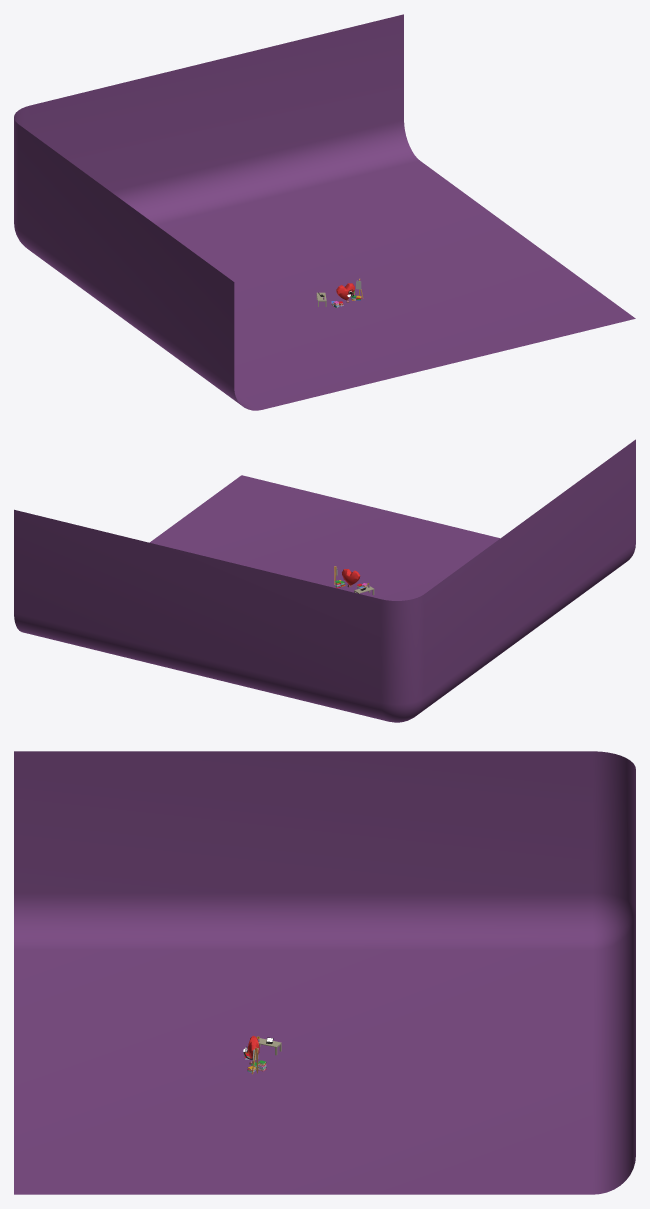
Rendered from heart.glb.
3 renders of one model, top to bottom at view 1: azimuth 30°, elevation 25°; view 2: azimuth 150°, elevation 25°; view 3: azimuth 270°, elevation 25°, orthographic. The views are drawn at different scales.
Parts seen in each view (by area): view 1: Plane; view 2: Plane; view 3: Plane.
Boxes of the visible parts, x1,y1,x2,y2 form: Plane: [14, 14, 635, 410]; Plane: [14, 439, 635, 722]; Plane: [14, 751, 635, 1194].
Bounding box in the file's own units: 128 × 41.02 × 128.
